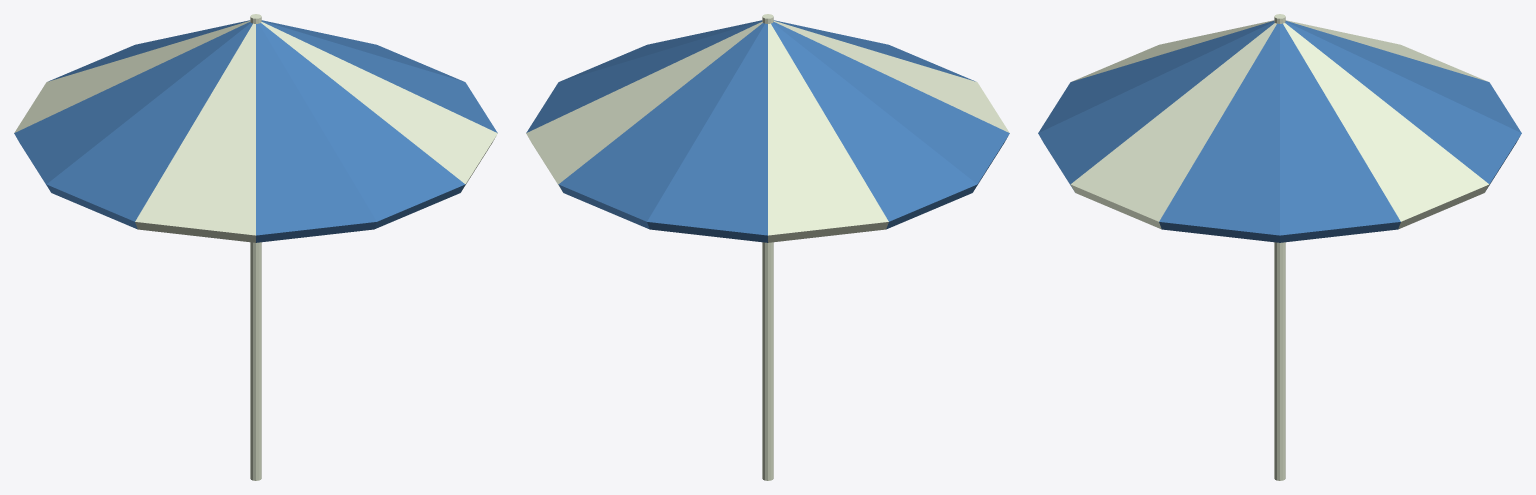
The model's file is umbrella_B.fbx.
3 renders of one model, left to right at view 1: azimuth 30°, elevation 25°; view 2: azimuth 150°, elevation 25°; view 3: azimuth 270°, elevation 25°, orthographic.
Visible parts, largest first — view 1: umbrella_B; view 2: umbrella_B; view 3: umbrella_B.
Boxes of the visible parts, x1=… form: umbrella_B: x1=14, y1=14, x2=497, y2=480; umbrella_B: x1=526, y1=14, x2=1009, y2=480; umbrella_B: x1=1038, y1=14, x2=1521, y2=480.
Size of the model in its own units: 200 by 211 by 200.
1 material, 1 textured.
